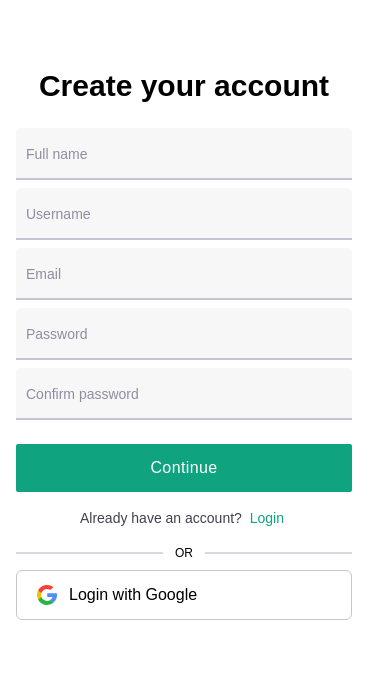
Test case: shows validation error messages
Step 1. Type "J" into the field labelled "Full name" → coordinates (184, 154), box [16,128,352,180]
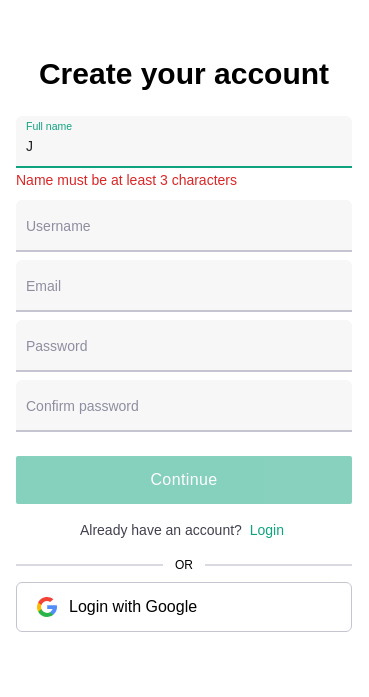
Step 2. Type "j" into the field labelled "Username" → coordinates (184, 226), box [16,200,352,252]
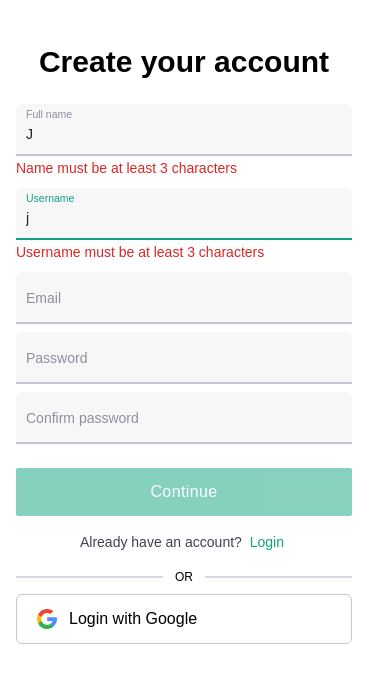
Step 3. Type "test" into the field labelled "Email" → coordinates (184, 298), box [16,272,352,324]
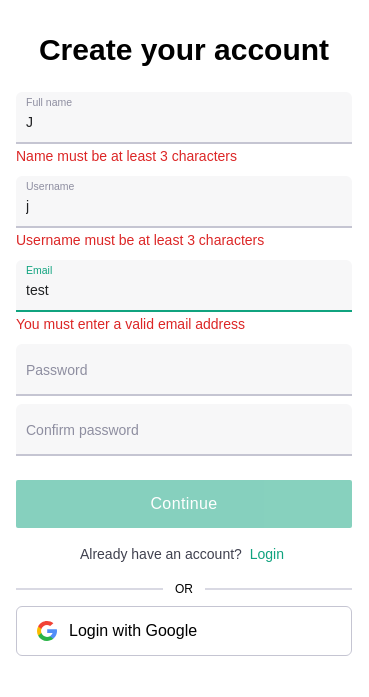
Step 4. Type "pass" into the password field with test id "password" → coordinates (184, 370), box [16,344,352,396]
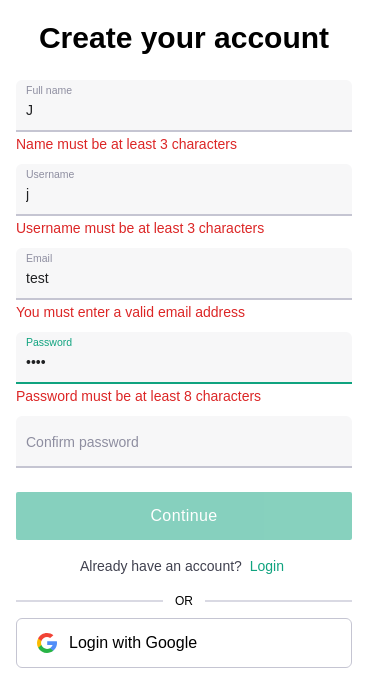
Step 5. Type "password1" into the password field with test id "confirm_password" → coordinates (184, 442), box [16,416,352,468]
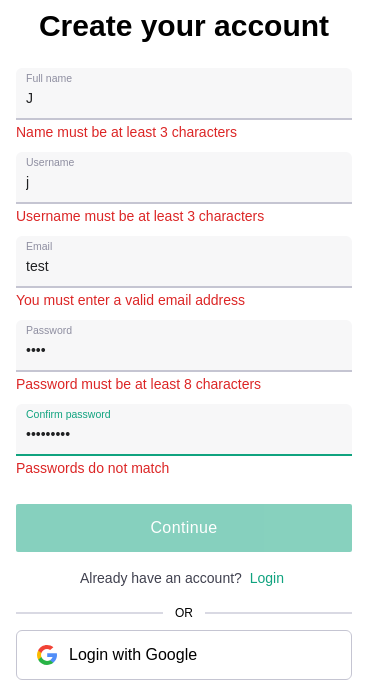
Expected: the message "Name must be at least 3 characters" is shown, [16,124,237,140]
Expected: the message "Username must be at least 3 characters" is shown, [16,208,264,224]
Expected: the number of messages is 5, [16,124,237,140]; [16,208,264,224]; [16,292,245,308]; [16,376,261,392]; [16,460,169,476]
